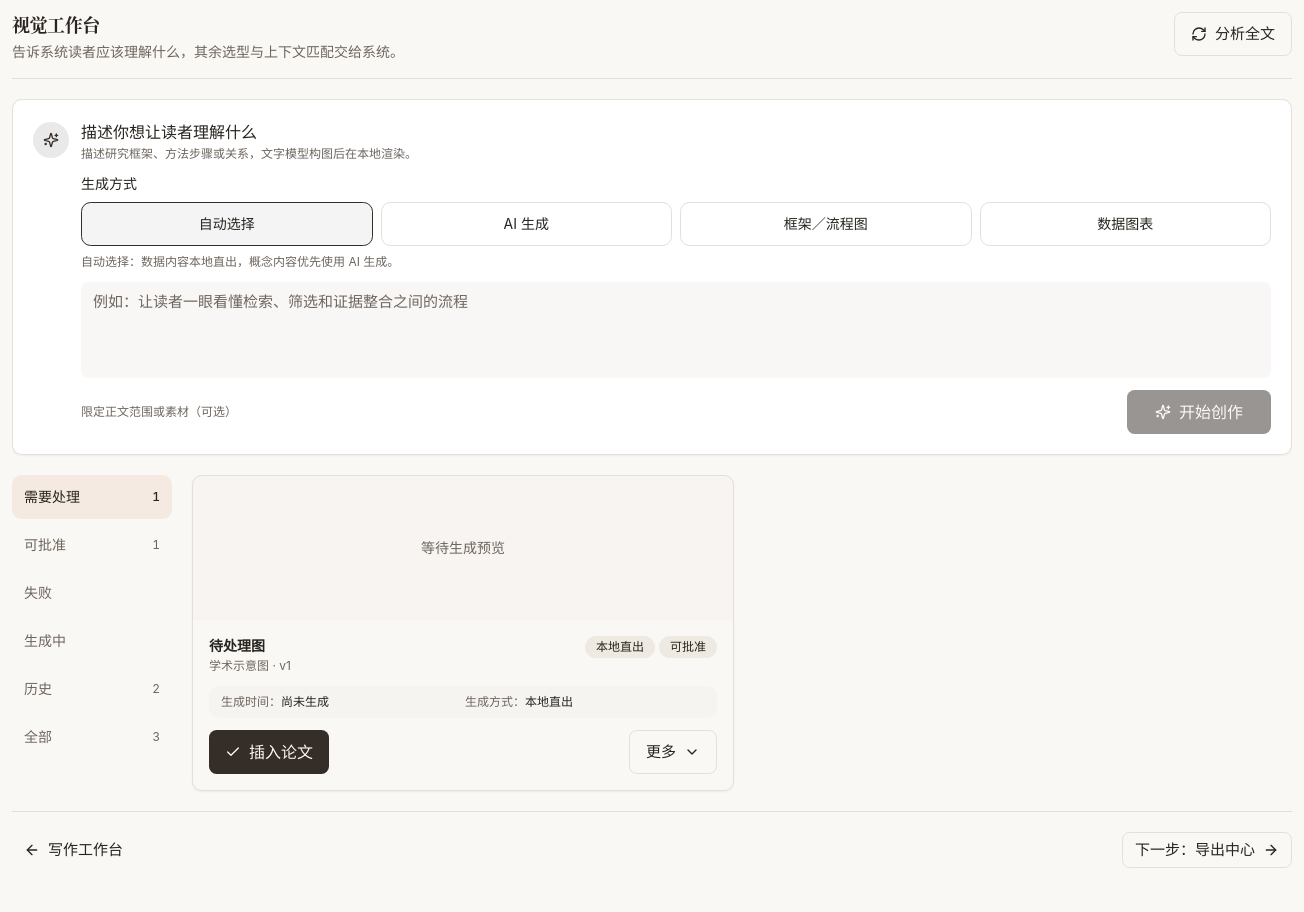
Test: 视觉工作台 › 默认显示需要处理，已插入和已拒绝进入历史
Expected: the heading "待处理图" is shown, [209,637,265,654]
Expected: the text "已插入图" is not shown
Click the button "历史 2": (92, 689) [12,667,172,711]
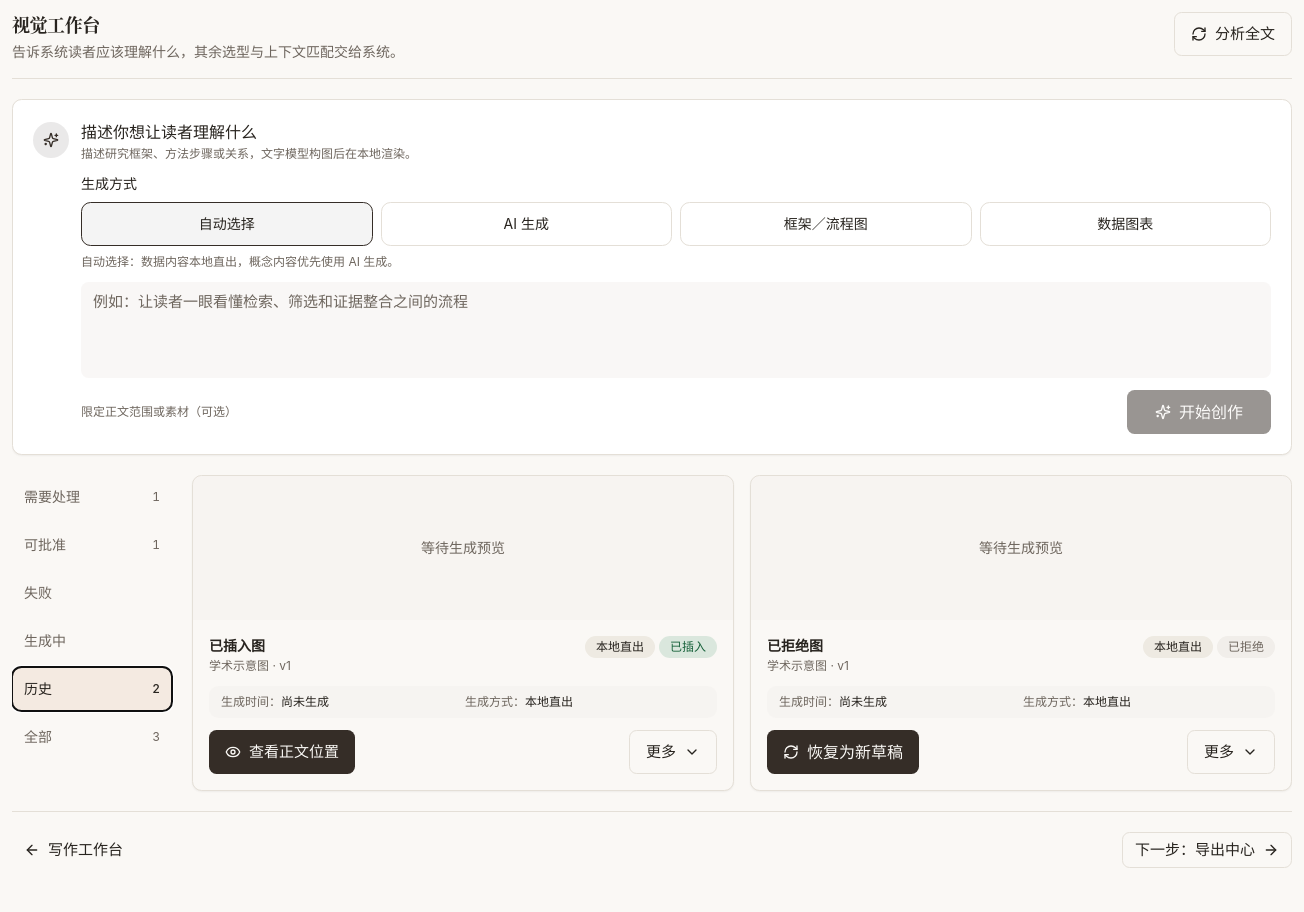
Expected: the heading "已插入图" is shown, [209,637,265,654]
Expected: the heading "已拒绝图" is shown, [767,637,823,654]
